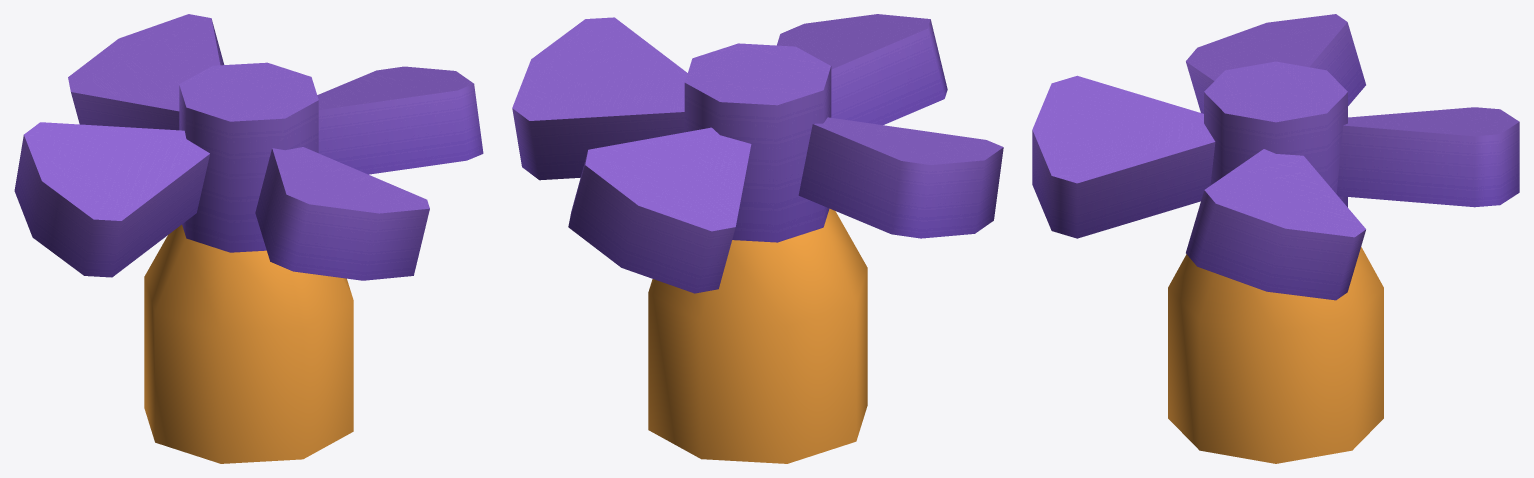
File: marble-kit--fan-simple-four.glb
3 renders of one model, left to right at view 1: azimuth 30°, elevation 25°; view 2: azimuth 150°, elevation 25°; view 3: azimuth 270°, elevation 25°, orthographic. The views are drawn at different scales.
Visible parts, largest first — view 1: fan, fan-simple-four; view 2: fan, fan-simple-four; view 3: fan, fan-simple-four.
Part boxes in pixels (box(x1,y1,x2,y2)): fan: box(14, 14, 483, 280); fan-simple-four: box(144, 62, 353, 463); fan: box(512, 14, 1003, 293); fan-simple-four: box(648, 43, 867, 463); fan: box(1032, 14, 1519, 300); fan-simple-four: box(1168, 61, 1383, 463).
Bounding box in the file's own units: 0.6765 × 0.5 × 0.6765.
Materials: 1 (1 with a texture image).
